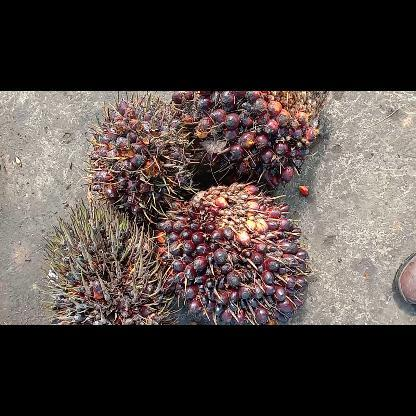Kurang masak: (156, 184, 310, 324), (86, 92, 192, 218)
TBS abnormal: (44, 204, 172, 324)
TBS masak: (171, 90, 325, 182)
